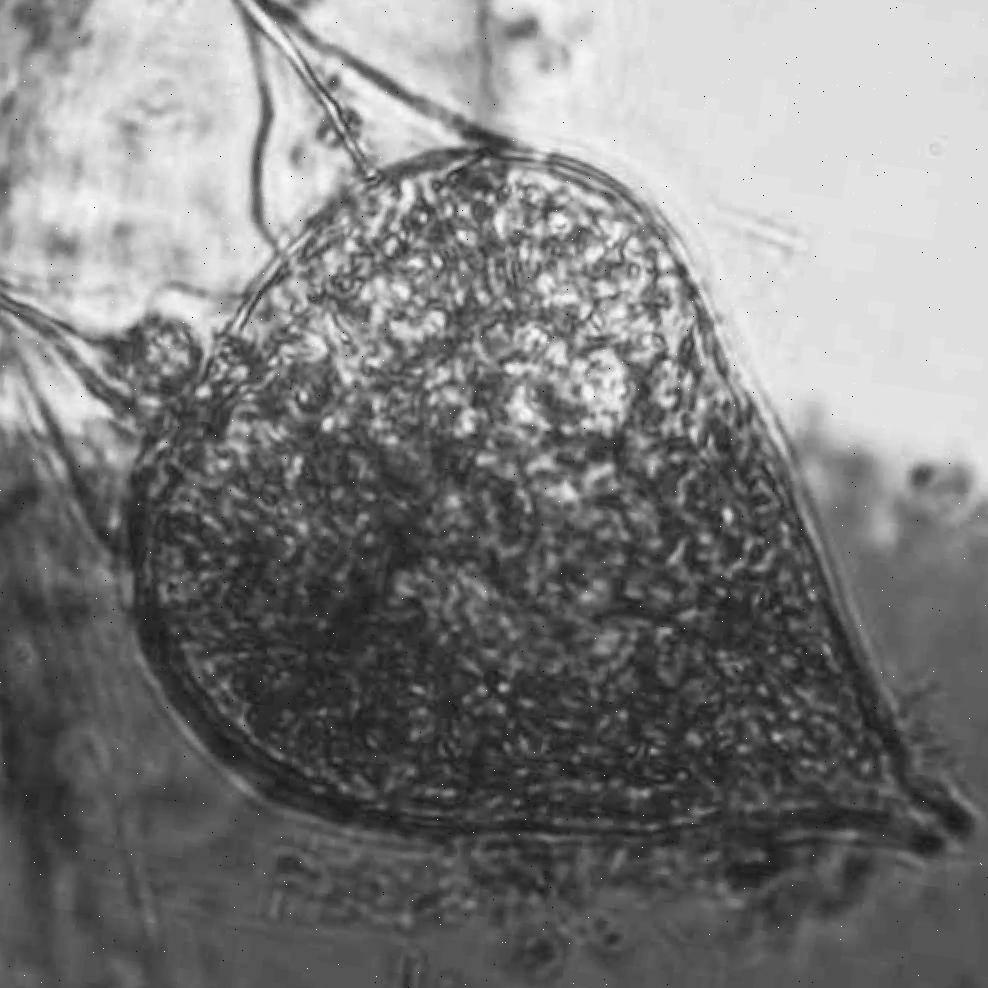podolampas_bipes: (0, 0, 973, 864)
